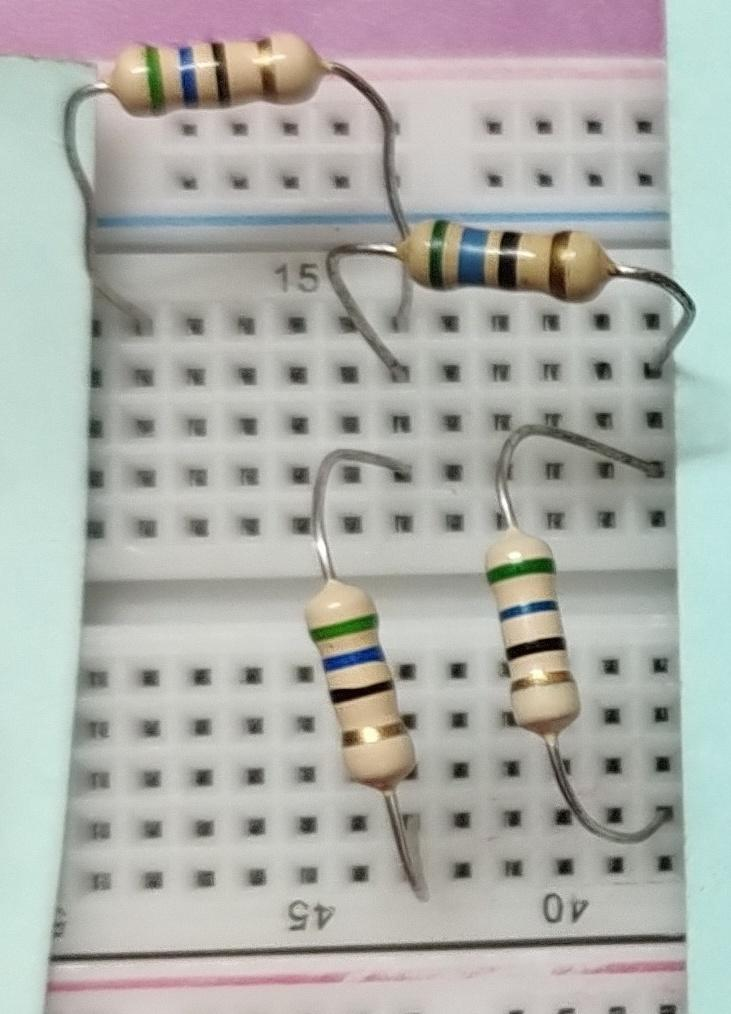resistor: (455, 512, 625, 770), (288, 578, 432, 795), (400, 205, 622, 340), (82, 22, 330, 120)
